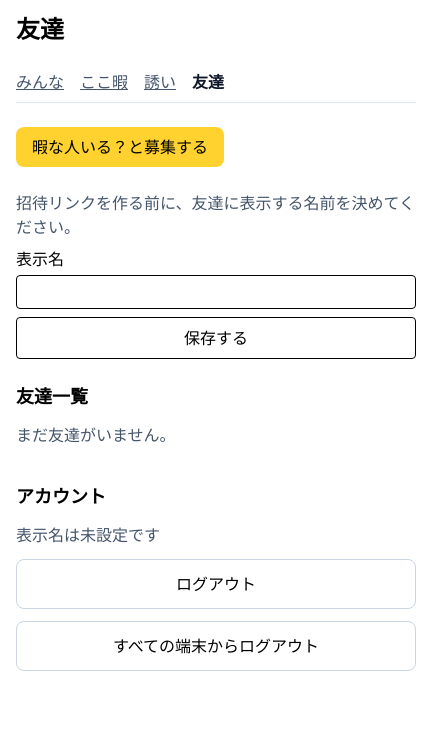
ログアウトの失敗 › 全端末ログアウト：通信できなければログイン中のまま、静かに再試行を促す
Check: the heading "アカウント" is shown, box [16,486,106,507]
Click the button "すべての端末からログアウト".
click(216, 646)  # box [16,621,416,671]
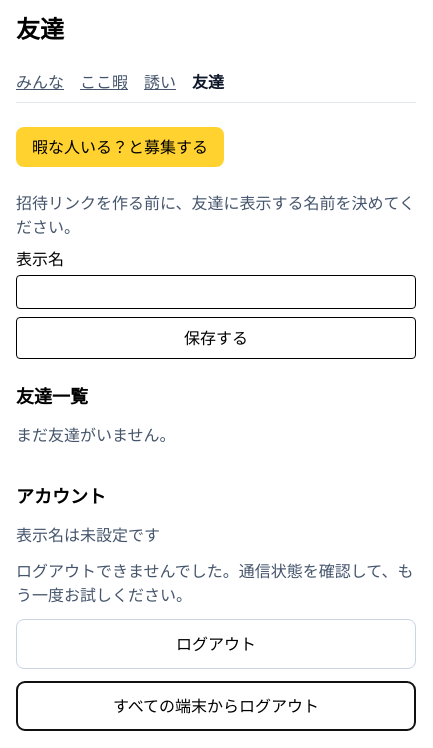
Check: the heading "アカウント" is shown, box [16,486,106,507]
Check: the text "ログアウトできませんでした。通信状態を確認して、もう一度お試しください。" is shown, box [16,559,416,607]
